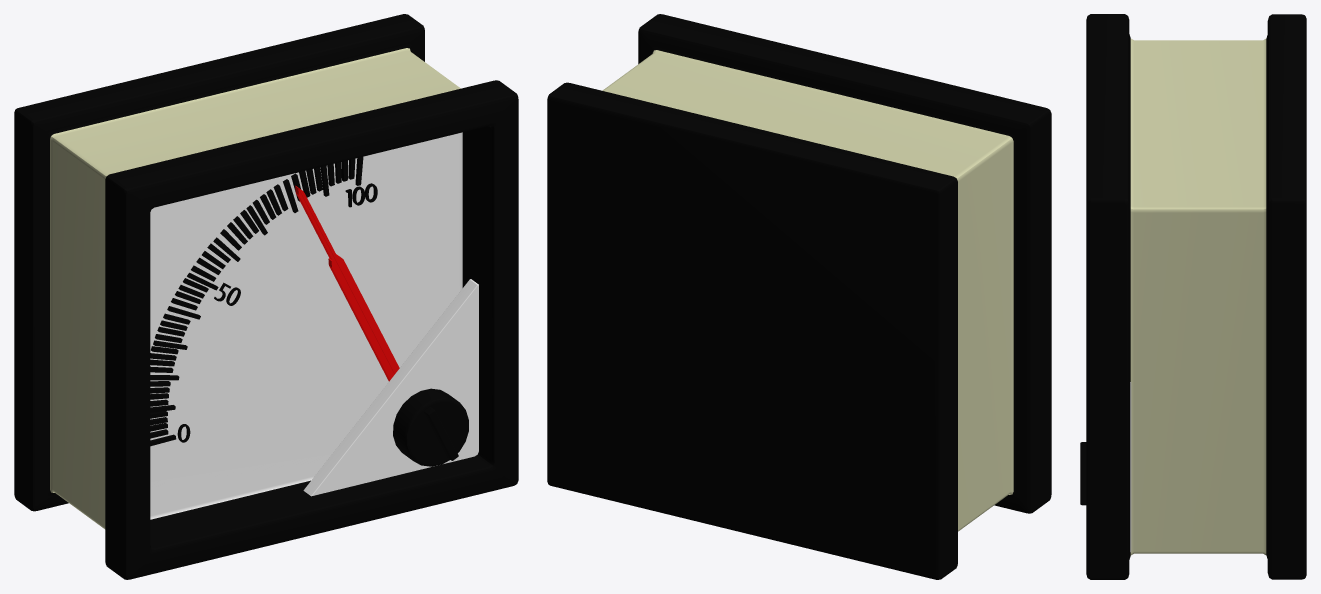
File: AMMETER.fbx
3 renders of one model, left to right at view 1: azimuth 30°, elevation 25°; view 2: azimuth 150°, elevation 25°; view 3: azimuth 270°, elevation 25°, orthographic. The views are drawn at different scales.
Visible parts, largest first — view 1: pCube7, polySurface53; view 2: pCube7; view 3: pCube7, polySurface53.
Boxes of the visible parts, x1,y1,x2,y2 form: pCube7: [14, 14, 518, 579]; polySurface53: [295, 185, 468, 466]; pCube7: [547, 14, 1051, 579]; pCube7: [1086, 14, 1306, 579]; polySurface53: [1080, 442, 1086, 505].
Bounding box in the file's own units: 6.81 × 6.46 × 3.47.
